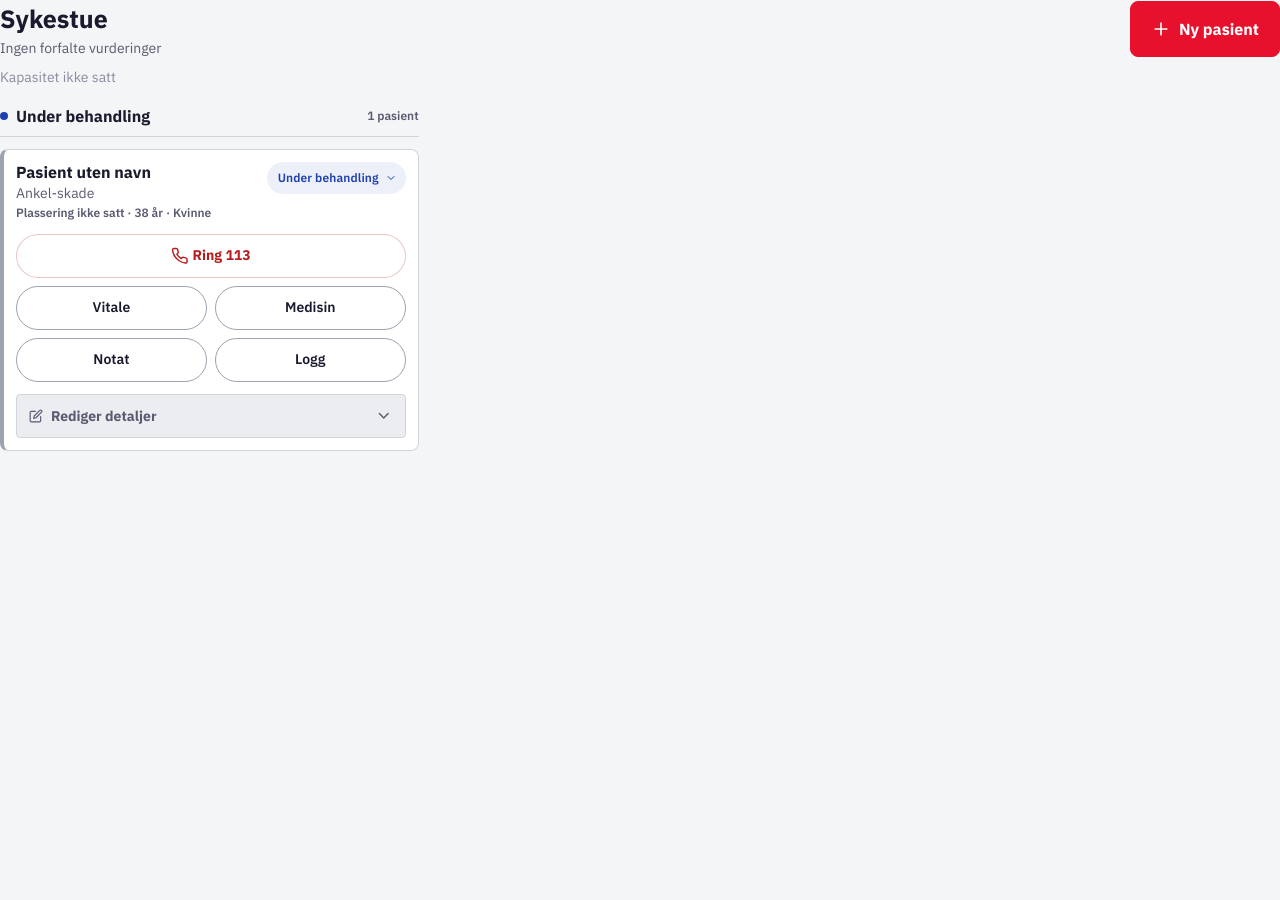
Test: AMK brief modal — structured 113 flow › opens the AMK brief modal and shows the clinician warning plus tel:113 fallback
The width and height of the screenshot is (1280, 900).
Expected: the element with test id "patient-section-in_treatment" is shown, [0, 104, 419, 451]
Click the button with test id "patient-ring-113".
click(211, 256)  # box [16, 234, 406, 278]
(page scrolled)
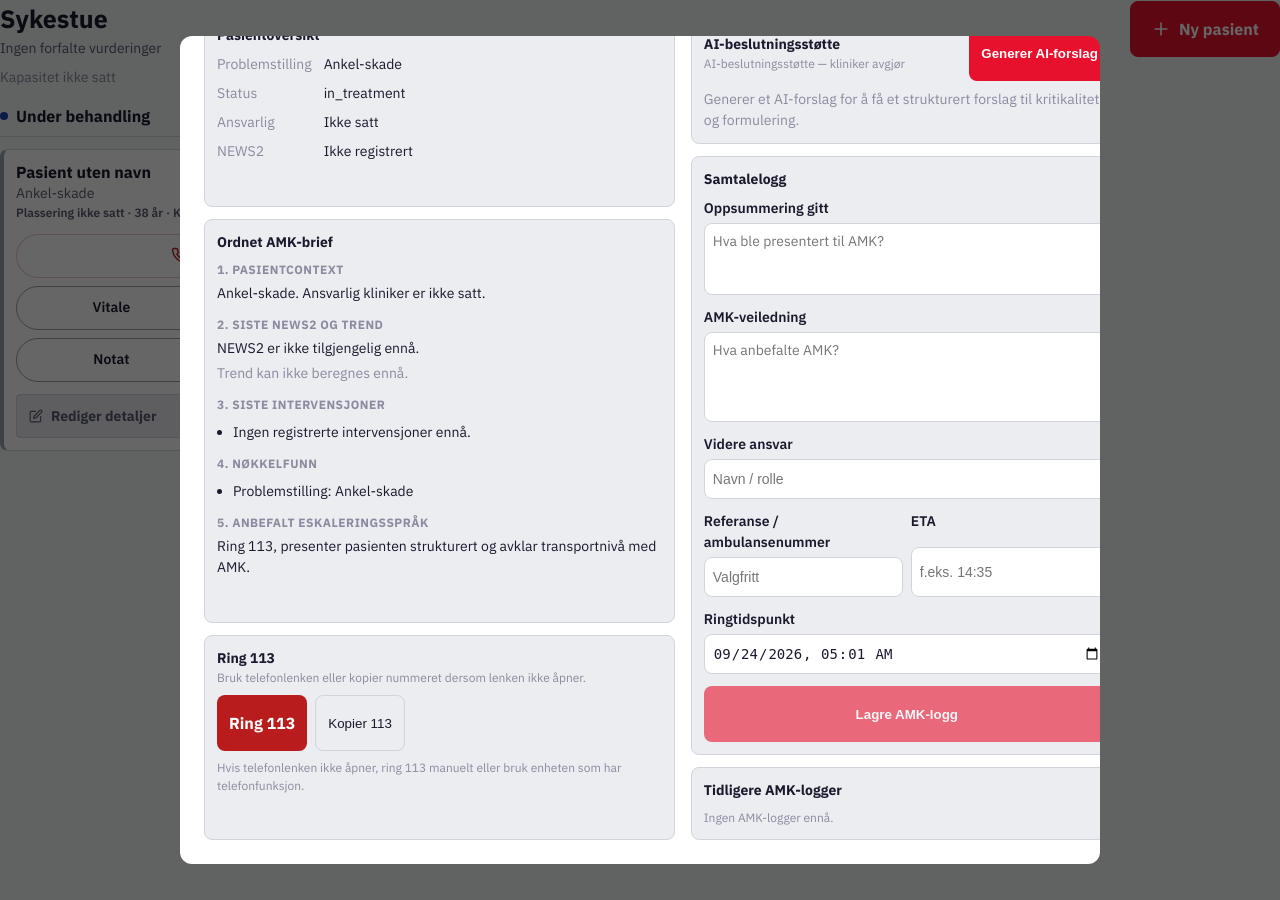
Expected: the dialog "AMK-brief" is shown
Expected: the text "AI-beslutningsstøtte — kliniker avgjør" is shown, [704, 54, 905, 72]
Expected: the text "Hvis telefonlenken ikke åpner" is shown, [217, 760, 621, 793]
